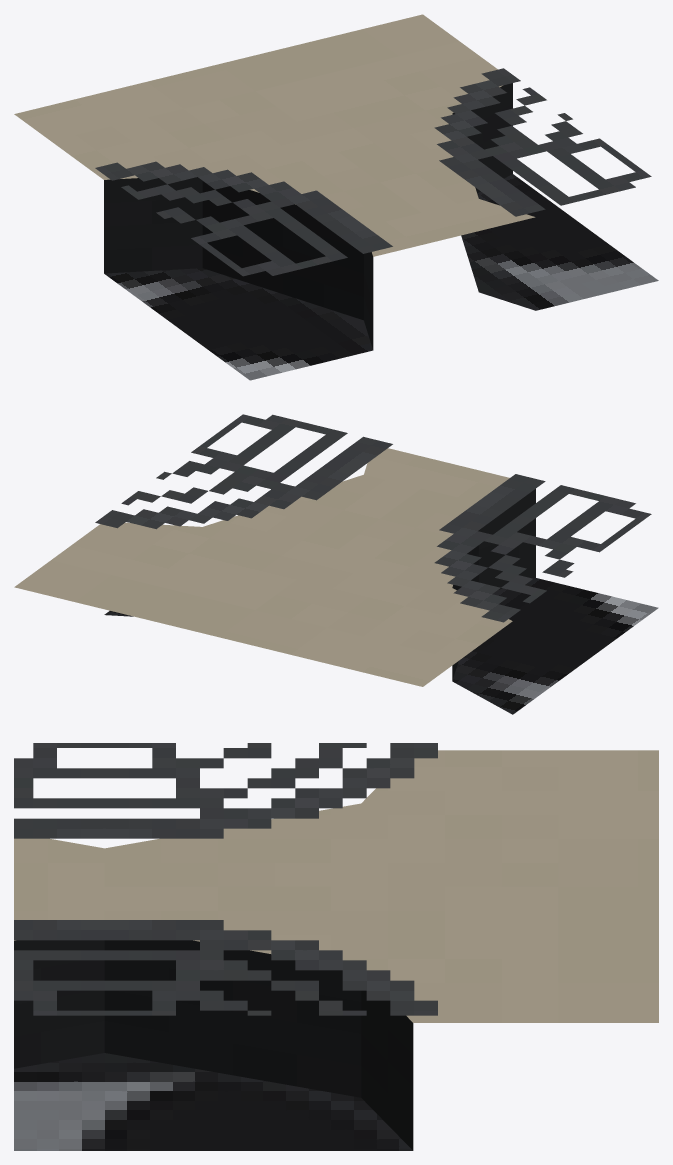
File: rtu_large_x0_y1_z2.obj
3 renders of one model, top to bottom at view 1: azimuth 30°, elevation 25°; view 2: azimuth 150°, elevation 25°; view 3: azimuth 270°, elevation 25°, orthographic. The views are drawn at different scales.
Visible parts, largest first — view 1: unit; view 2: unit; view 3: unit.
Boxes of the visible parts, <box> form: unit: <box>14,14,658,380</box>; unit: <box>14,414,658,714</box>; unit: <box>14,743,658,1150</box>.
Size of the model in its own units: 1 by 0.2312 by 1.
